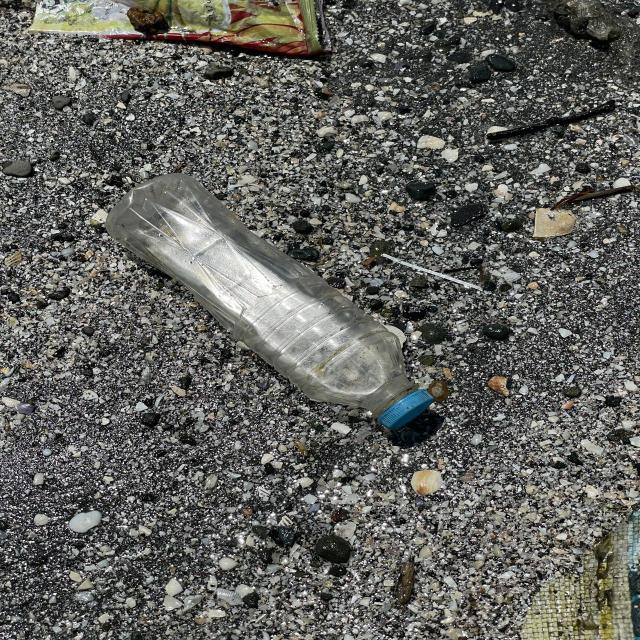plastic_waste: (107, 174, 433, 431), (29, 1, 332, 55)
